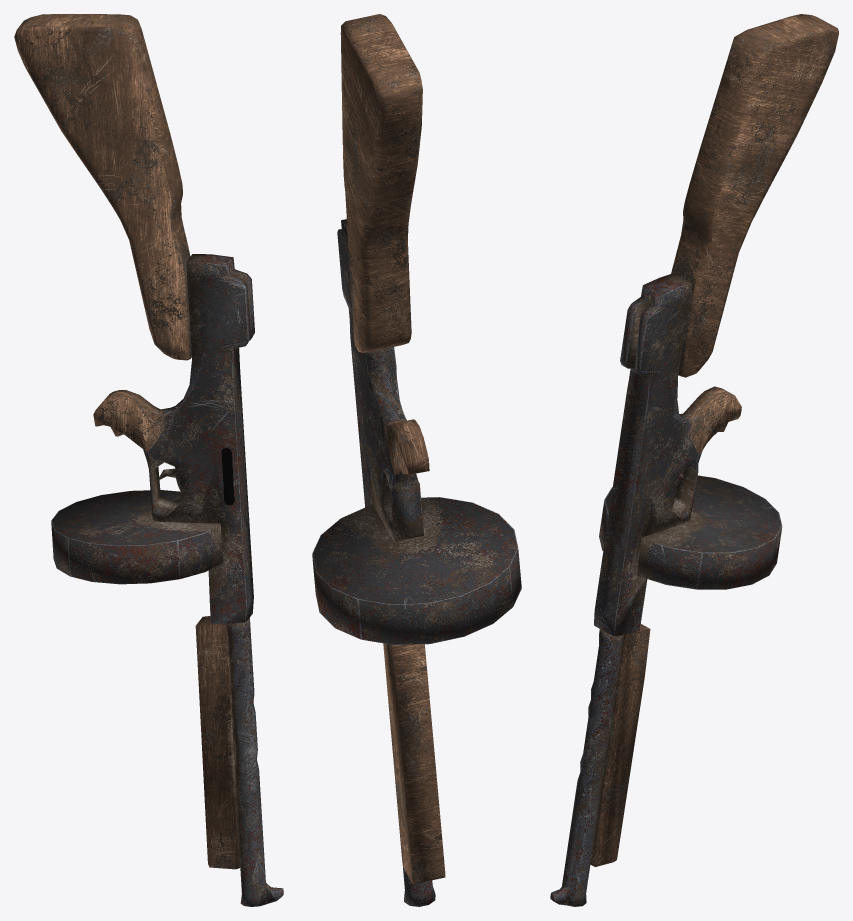
File: Anim_idle_ametralladora_objetos.0020.obj
3 renders of one model, left to right at view 1: azimuth 30°, elevation 25°; view 2: azimuth 150°, elevation 25°; view 3: azimuth 270°, elevation 25°, orthographic. The views are drawn at different scales.
Parts seen in each view (by area): view 1: Ametralladora1; view 2: Ametralladora1; view 3: Ametralladora1.
Boxes of the visible parts, x1,y1,x2,y2 form: Ametralladora1: [14, 14, 283, 906]; Ametralladora1: [312, 14, 521, 906]; Ametralladora1: [550, 14, 838, 906].
Size of the model in its own units: 1.24 by 5.93 by 1.84.
